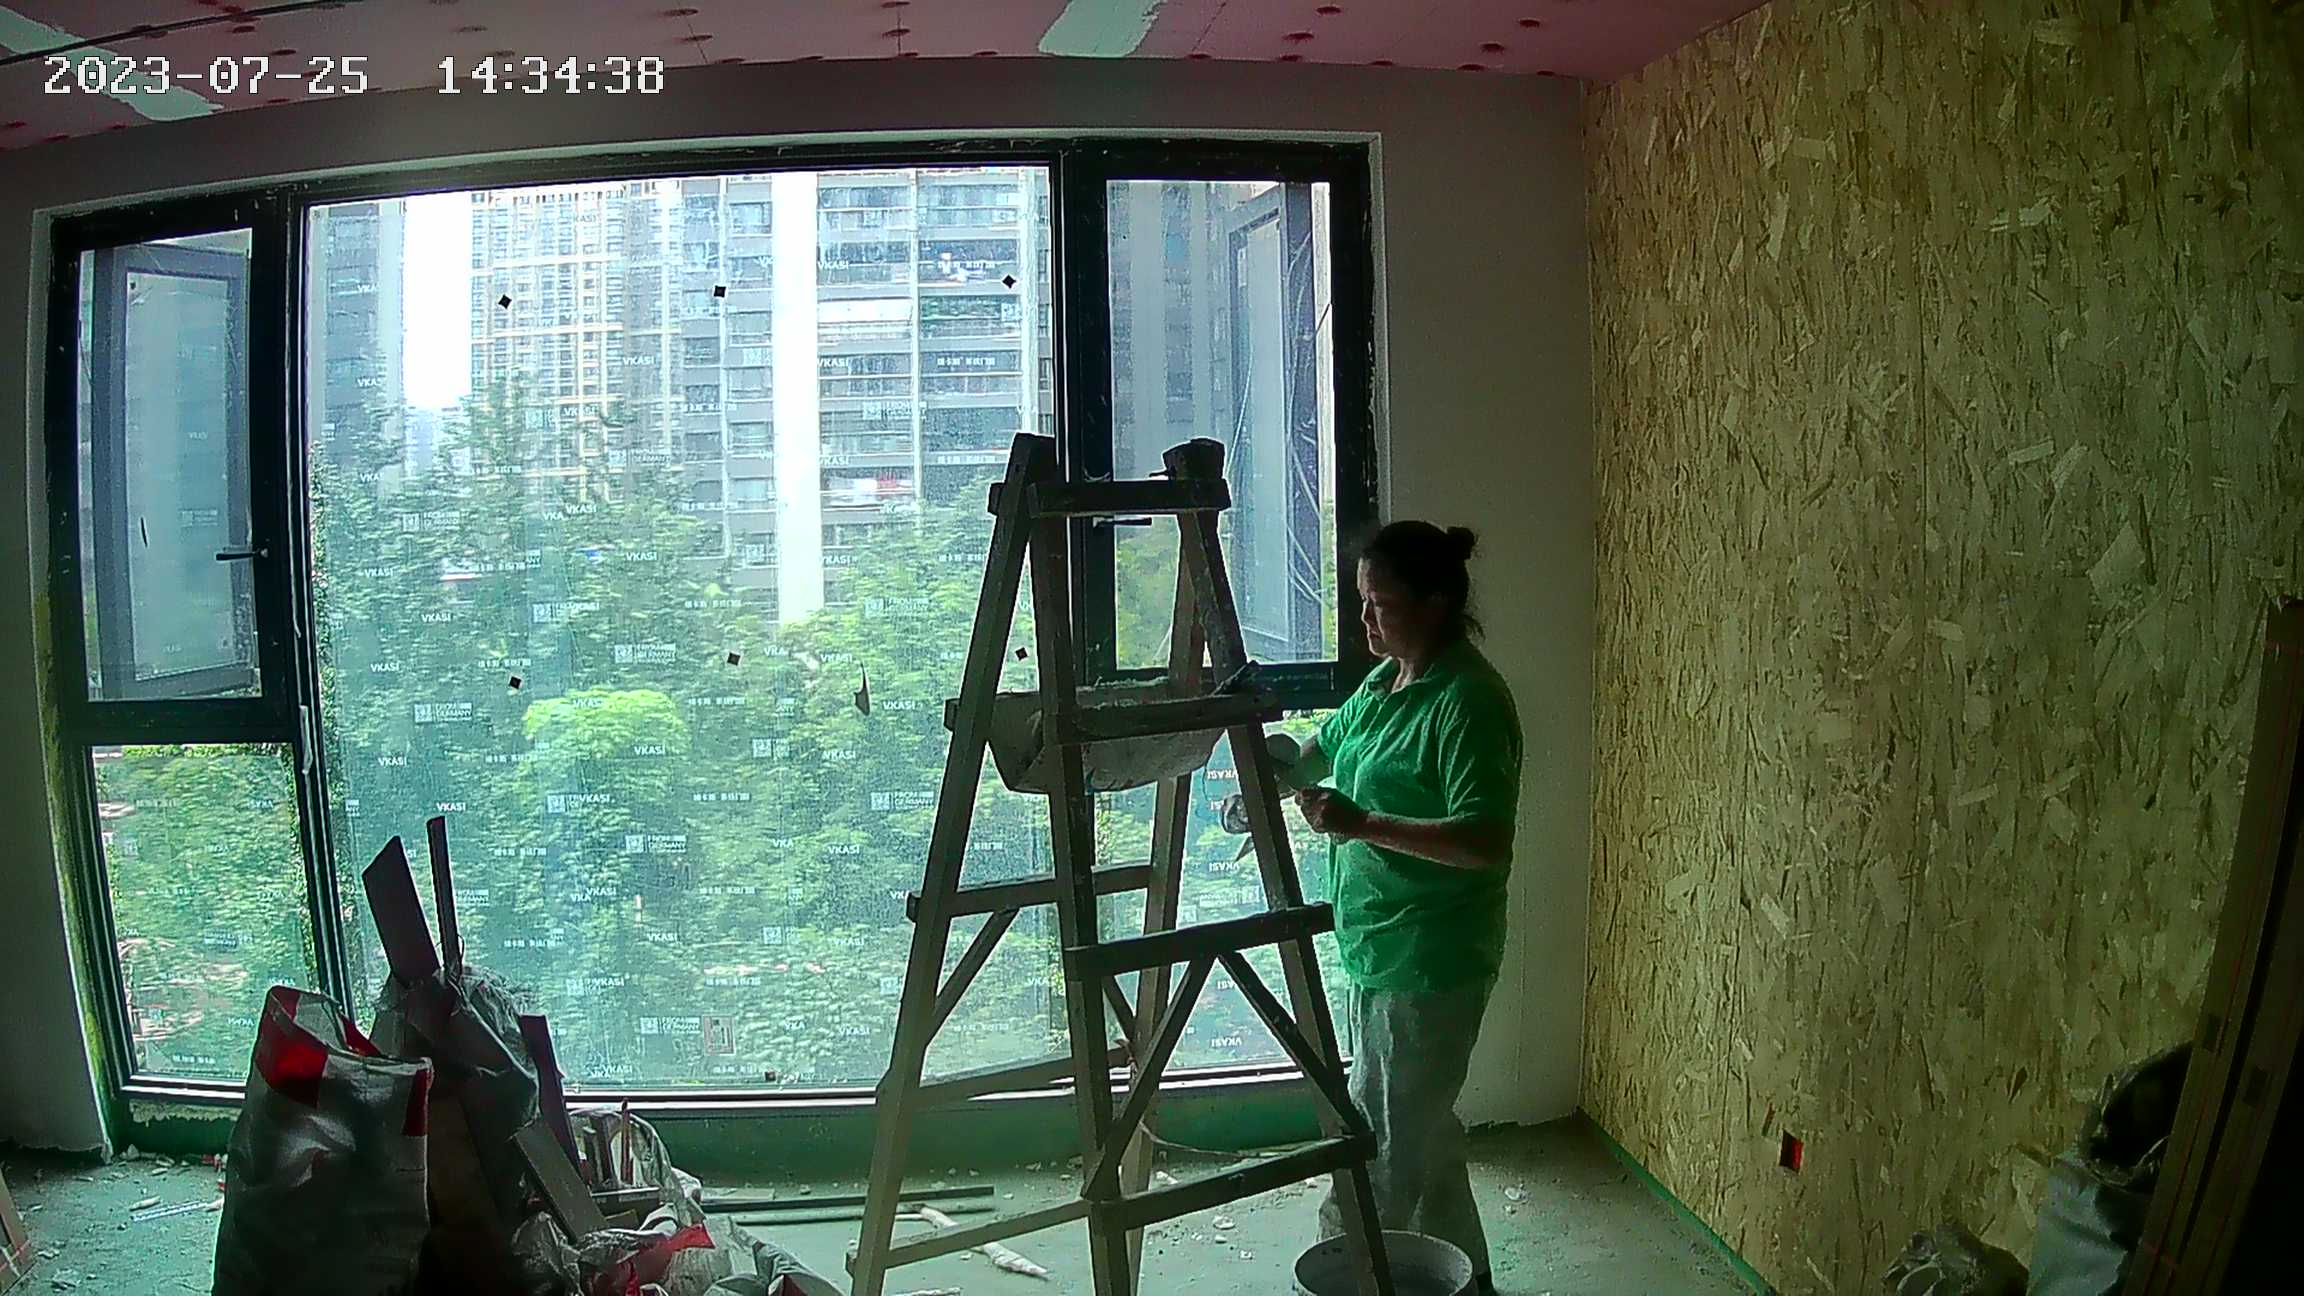people: (1267, 522, 1531, 1296)
window: (51, 197, 1358, 1085)
